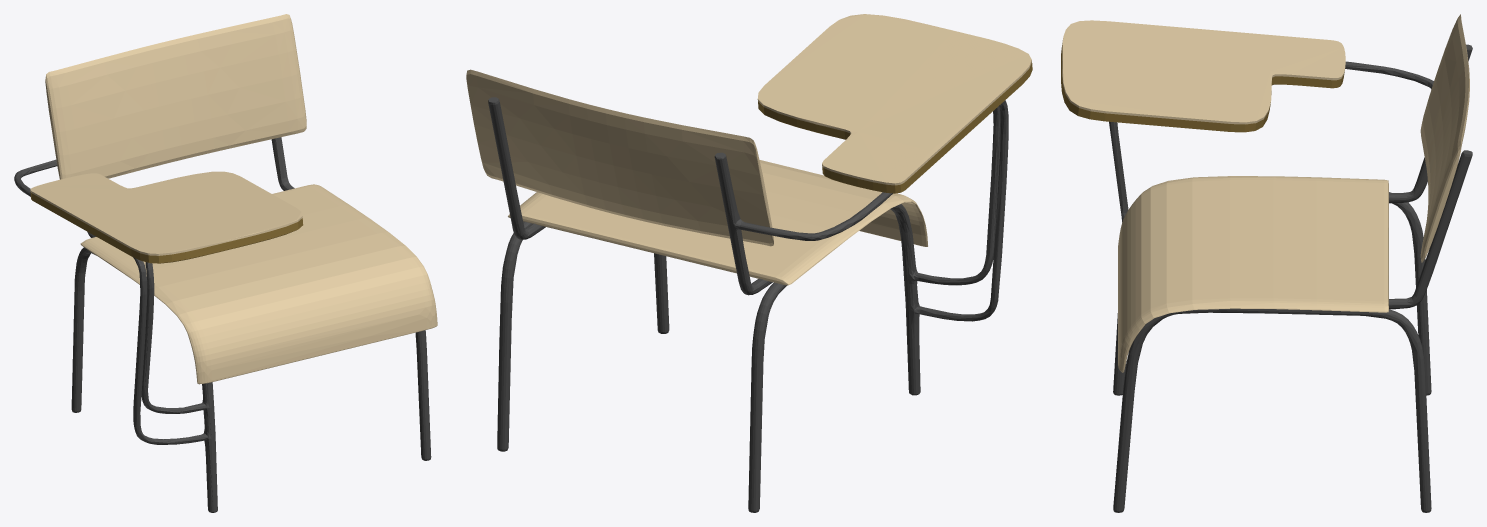
The model's file is sh-bsby-class-seat.glb.
The picture shows the model from 3 angles, left to right: view 1: azimuth 30°, elevation 25°; view 2: azimuth 150°, elevation 25°; view 3: azimuth 270°, elevation 25°; orthographic projection. The views are drawn at different scales.
Parts seen in each view (by area): view 1: Cube; view 2: Cube; view 3: Cube.
Part boxes in pixels (x1=…): Cube: x1=14, y1=14, x2=437, y2=512; Cube: x1=466, y1=14, x2=1032, y2=512; Cube: x1=1061, y1=14, x2=1472, y2=512.
Bounding box in the file's own units: 0.9998 × 1 × 1.
